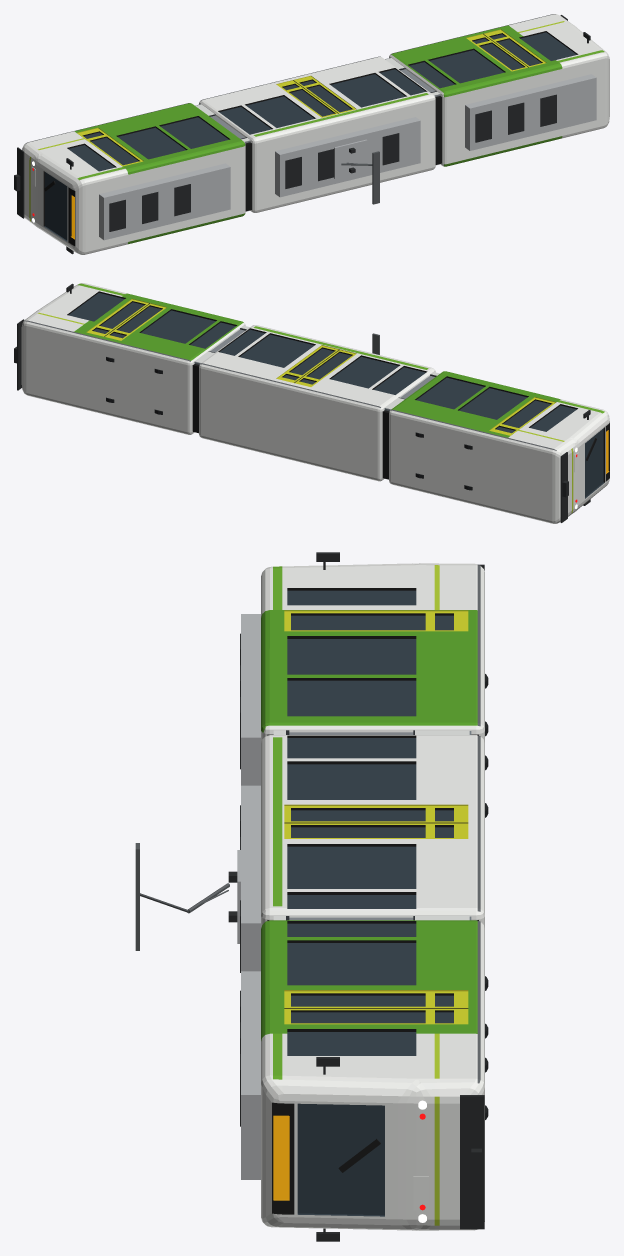
3 renders of one model, top to bottom at view 1: azimuth 30°, elevation 25°; view 2: azimuth 150°, elevation 25°; view 3: azimuth 270°, elevation 25°, orthographic. The views are drawn at different scales.
Parts seen in each view (by area): view 1: D1_body_s0, D1_body_s1, D1_body_s2, D1_roof_pod_027, D1_roof_pod_036, D1_roof_pod_031, D1_pan_base_040, D1_roof_grille_035, D1_bumper_007, D1_roof_grille_028, D1_roof_grille_037, D1_roof_grille_030 (+8 smaller); view 2: D1_body_s0, D1_body_s1, D1_body_s2, D1_bellows_002, D1_bellows_001, D1_bumper_007, D1_bumper_019; view 3: D1_body_s2, D1_body_s1, D1_body_s0, D1_roof_pod_036, D1_roof_pod_031, D1_roof_pod_027, D1_bumper_019.
Boxes of the visible parts, x1,y1,x2,y2 form: D1_body_s0: [22, 103, 245, 254]; D1_body_s1: [199, 56, 435, 212]; D1_body_s2: [389, 14, 609, 166]; D1_roof_pod_027: [99, 163, 230, 240]; D1_roof_pod_036: [465, 74, 596, 150]; D1_roof_pod_031: [275, 117, 420, 197]; D1_pan_base_040: [334, 139, 367, 179]; D1_roof_grille_035: [382, 133, 399, 165]; D1_bumper_007: [17, 147, 24, 218]; D1_roof_grille_028: [109, 199, 125, 231]; D1_roof_grille_037: [475, 110, 491, 142]; D1_roof_grille_030: [174, 184, 190, 216]; D1_body_s0: [389, 371, 609, 523]; D1_body_s1: [199, 325, 435, 481]; D1_body_s2: [21, 283, 245, 434]; D1_bellows_002: [192, 364, 199, 433]; D1_bellows_001: [382, 410, 389, 479]; D1_bumper_007: [560, 452, 567, 522]; D1_bumper_019: [17, 319, 24, 390]; D1_body_s2: [261, 920, 484, 1230]; D1_body_s1: [261, 735, 484, 928]; D1_body_s0: [261, 563, 484, 742]; D1_roof_pod_036: [241, 971, 260, 1179]; D1_roof_pod_031: [241, 785, 260, 971]; D1_roof_pod_027: [241, 614, 260, 785]; D1_bumper_019: [460, 1095, 484, 1229].
Bounding box in the file's own units: 20.4 × 3.23 × 5.64.
